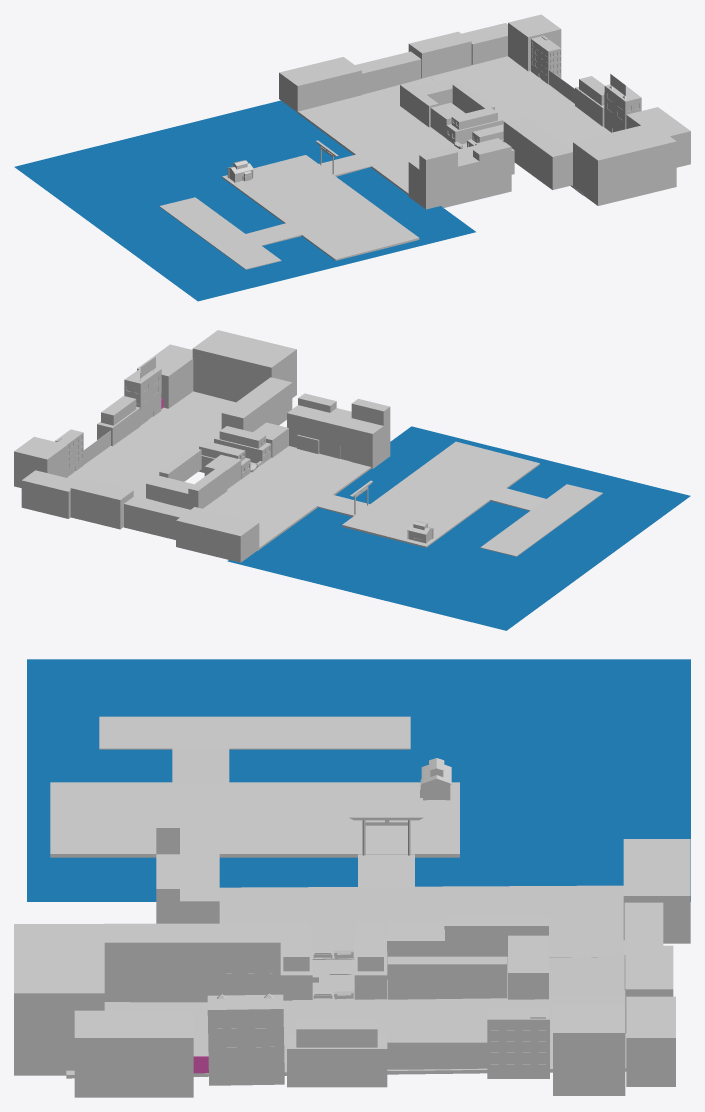
Rendered from Map (1).fbx.
3 views of the same model, one above another, from view 1: azimuth 30°, elevation 25°; view 2: azimuth 150°, elevation 25°; view 3: azimuth 270°, elevation 25° (orthographic). The views are drawn at different scales.
Parts seen in each view (by area): view 1: Plane, Cube.002, Cube.004, Cube.030, Cube.006, Cube.021, Cube.027, Cube.031, Cube, Cube.025, Cube.026, Cube.028 (+14 smaller); view 2: Plane, Cube.002, Cube.004, Cube.006, Cube.021, Cube.030, Cube.027, Cube, Cube.031, Cube.025, Cube.024, Cube.023 (+15 smaller); view 3: Plane, Cube.002, Cube.004, Cube.031, Cube.030, Cube.023, Cube, Cube.006, Cube.017, Cube.021, Cube.028, Cube.015 (+18 smaller).
Boxes of the visible parts, <box> form: Plane: <box>14,100,475,301</box>; Cube.002: <box>222,155,419,260</box>; Cube.004: <box>296,92,459,194</box>; Cube.030: <box>573,123,676,205</box>; Cube.006: <box>429,56,610,195</box>; Cube.021: <box>408,141,511,209</box>; Cube.027: <box>279,57,361,112</box>; Cube.031: <box>503,116,572,189</box>; Cube: <box>159,197,281,269</box>; Cube.025: <box>408,31,471,78</box>; Cube.026: <box>355,51,421,94</box>; Cube.028: <box>508,14,561,71</box>; Plane: <box>227,426,690,630</box>; Cube.002: <box>342,441,539,547</box>; Cube.004: <box>203,446,371,550</box>; Cube.006: <box>67,391,235,499</box>; Cube.021: <box>287,393,390,468</box>; Cube.030: <box>192,330,296,402</box>; Cube.027: <box>176,507,259,562</box>; Cube: <box>480,484,602,556</box>; Cube.031: <box>221,377,292,432</box>; Cube.025: <box>70,478,133,529</box>; Cube.024: <box>21,470,79,518</box>; Cube.023: <box>137,344,193,408</box>; Plane: <box>27,659,690,901</box>; Cube.002: <box>50,782,459,857</box>; Cube.004: <box>219,885,624,959</box>; Cube.031: <box>104,923,280,1002</box>; Cube.030: <box>14,924,104,1075</box>; Cube.023: <box>74,1010,193,1097</box>; Cube: <box>99,716,410,749</box>; Cube.006: <box>66,996,626,1078</box>; Cube.017: <box>207,973,284,1085</box>; Cube.021: <box>156,800,222,923</box>; Cube.028: <box>553,1003,625,1095</box>; Cube.015: <box>287,1018,387,1087</box>.
Size of the model in its own units: 319225 by 37460 by 203623.
